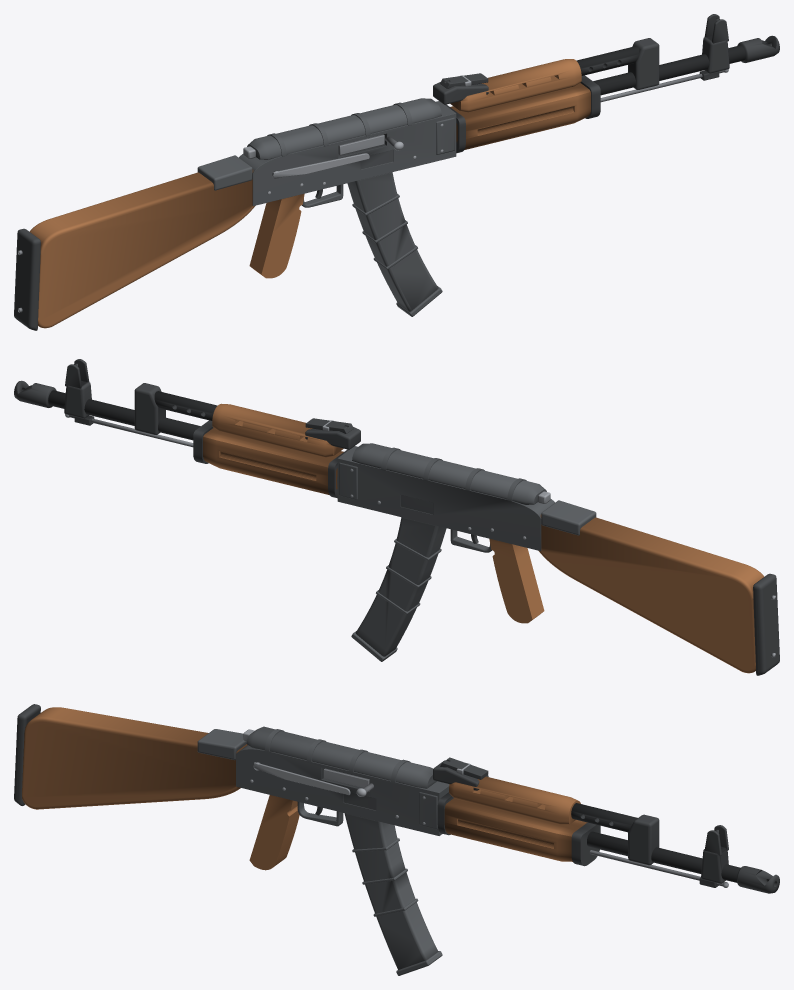
3 renders of one model, top to bottom at view 1: azimuth 30°, elevation 25°; view 2: azimuth 150°, elevation 25°; view 3: azimuth 330°, elevation 25°, orthographic.
Visible parts, largest first — view 1: stock, receiver, mag, lower_hg, dustcover, upper_hg, grip_part, buttplate, barrel, stock_tang, gas_block, gas_tube (+5 smaller); view 2: stock, receiver, mag, lower_hg, dustcover, upper_hg, grip_part, buttplate, barrel, stock_tang, gas_block, gas_tube (+4 smaller); view 3: stock, receiver, mag, lower_hg, dustcover, upper_hg, grip_part, barrel, gas_block, stock_tang, gas_tube, buttplate (+9 smaller).
Part boxes in pixels (bbox=[...]): stock: bbox=[29, 169, 255, 328]; receiver: bbox=[239, 101, 456, 205]; mag: bbox=[347, 172, 438, 311]; lower_hg: bbox=[450, 83, 590, 149]; dustcover: bbox=[247, 98, 441, 159]; upper_hg: bbox=[450, 59, 581, 112]; grip_part: bbox=[249, 193, 304, 278]; buttplate: bbox=[14, 228, 40, 330]; barrel: bbox=[593, 45, 745, 95]; stock_tang: bbox=[197, 155, 252, 190]; gas_block: bbox=[628, 38, 659, 89]; gas_tube: bbox=[576, 46, 639, 75]; stock: bbox=[538, 514, 764, 673]; receiver: bbox=[337, 446, 554, 550]; mag: bbox=[355, 517, 446, 656]; lower_hg: bbox=[203, 428, 343, 494]; dustcover: bbox=[352, 443, 546, 504]; upper_hg: bbox=[212, 403, 343, 457]; grip_part: bbox=[489, 538, 544, 623]; buttplate: bbox=[753, 573, 779, 675]; barrel: bbox=[48, 390, 200, 440]; stock_tang: bbox=[541, 500, 596, 535]; gas_block: bbox=[134, 383, 165, 434]; gas_tube: bbox=[154, 391, 217, 420]; stock: bbox=[22, 707, 247, 809]; receiver: bbox=[236, 745, 449, 835]; mag: bbox=[344, 813, 438, 969]; lower_hg: bbox=[444, 798, 587, 861]; dustcover: bbox=[246, 726, 436, 788]; upper_hg: bbox=[449, 776, 580, 824]; grip_part: bbox=[249, 795, 299, 870]; barrel: bbox=[587, 831, 740, 882]; gas_block: bbox=[628, 814, 659, 865]; stock_tang: bbox=[197, 729, 246, 760]; gas_tube: bbox=[571, 803, 637, 832]; buttplate: bbox=[14, 704, 40, 805].
Bounding box in the file's own units: 1.17 × 0.3268 × 0.0844.
